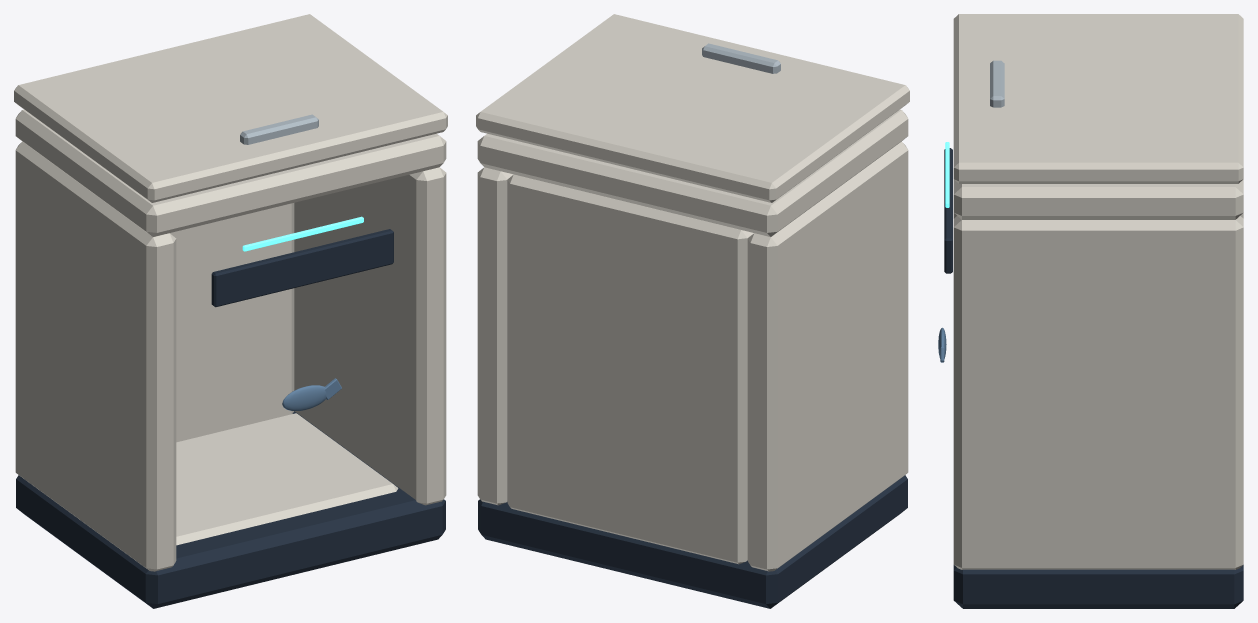
The model's file is campus_06.glb.
3 renders of one model, left to right at view 1: azimuth 30°, elevation 25°; view 2: azimuth 150°, elevation 25°; view 3: azimuth 270°, elevation 25°, orthographic. The views are drawn at different scales.
Visible parts, largest first — view 1: Side (×2), Lid, Back, Base, Bottom, Top, BookSlot, Handle, WhaleBody, StatusLight; view 2: Back, Side (×2), Lid, Base, Top, Handle; view 3: Side, Lid, Base, Top, BookSlot, Handle.
Boxes of the visible parts, x1,y1,x2,y2 form: Side (×2): (15,141,446,571); Lid: (14,14,447,202); Back: (170,203,294,442); Base: (16,411,445,608); Bottom: (176,413,398,545); Top: (15,109,446,236); BookSlot: (211,229,393,307); Handle: (240,114,318,144); WhaleBody: (282,385,326,410); StatusLight: (242,216,363,251); Back: (507,174,753,564); Side (×2): (477,141,908,571); Lid: (476,14,909,202); Base: (478,475,907,608); Top: (477,109,908,236); Handle: (702,43,780,73); Side: (953,216,1243,569); Lid: (953,14,1243,183); Base: (953,565,1243,608); Top: (953,179,1243,219); BookSlot: (944,148,952,273); Handle: (990,60,1004,107).
Size of the model in its own units: 0.7 by 0.976 by 0.59.
